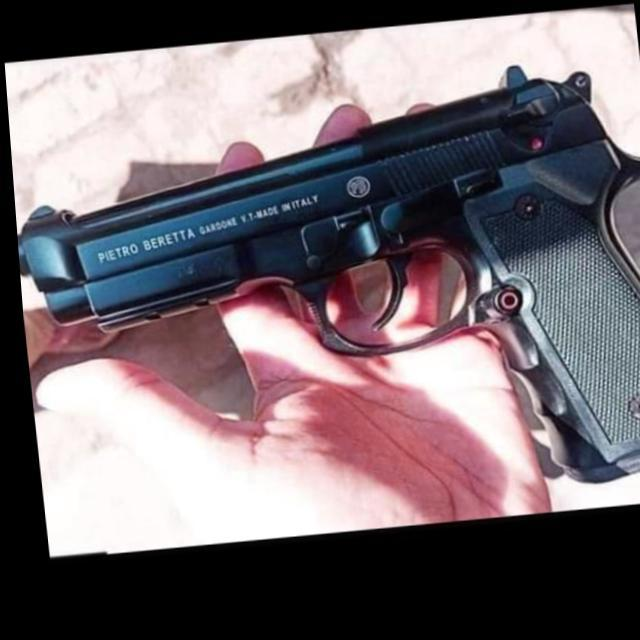weapon: (5, 54, 640, 539)
